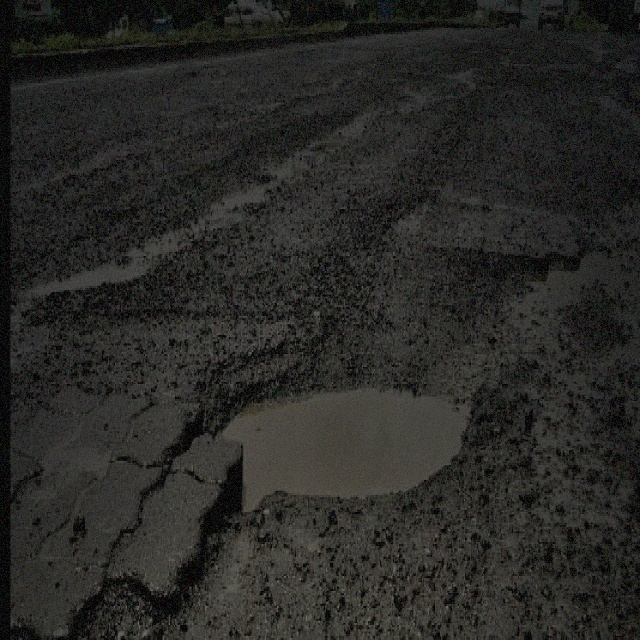pothole: (170, 369, 475, 518)
